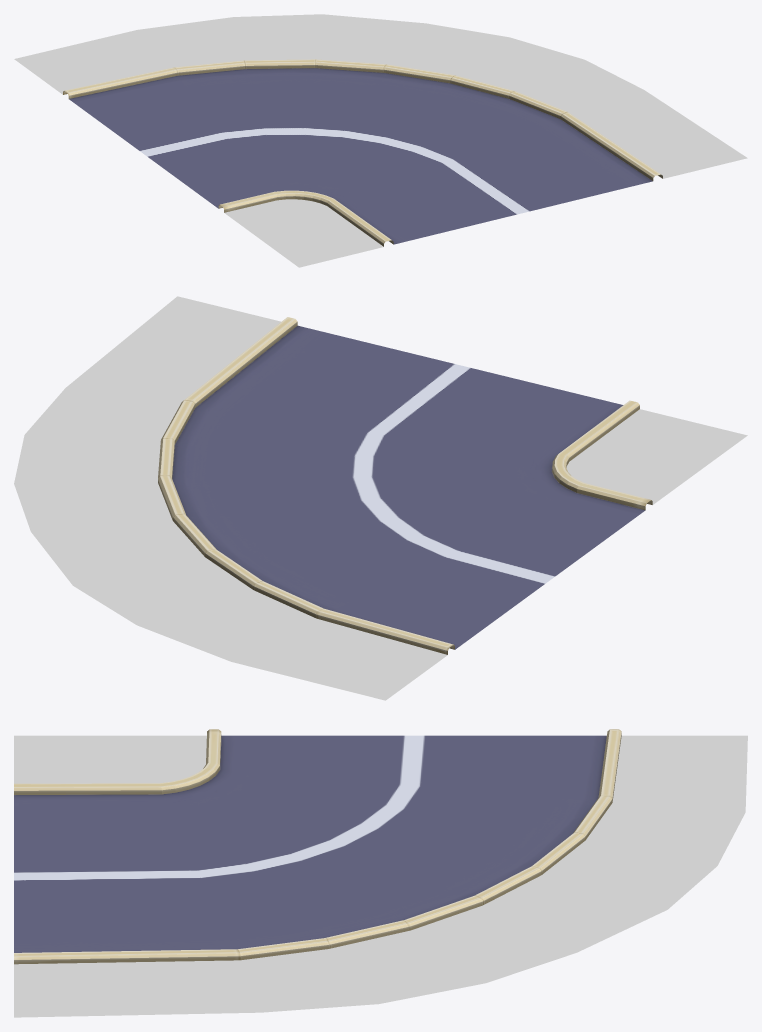
Rendered from road_turn.fbx.
The picture shows the model from 3 angles, top to bottom: view 1: azimuth 30°, elevation 25°; view 2: azimuth 150°, elevation 25°; view 3: azimuth 270°, elevation 25°; orthographic projection. The views are drawn at different scales.
Visible parts, largest first — view 1: Plane.001; view 2: Plane.001; view 3: Plane.001.
Boxes of the visible parts, x1,y1,x2,y2 form: Plane.001: (14,14,747,267); Plane.001: (14,296,747,700); Plane.001: (14,729,747,1017).
Size of the model in its own units: 1000 by 10.4 by 1100.
